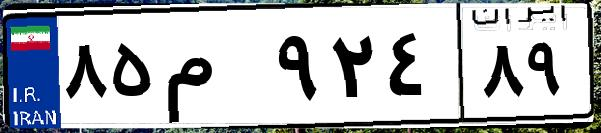2: (330, 28, 385, 110)
4: (385, 28, 445, 110)
5: (110, 28, 158, 98)
8: (57, 26, 110, 100), (475, 38, 525, 113)
9: (270, 28, 330, 110), (525, 38, 570, 115)
م: (158, 20, 270, 120)
